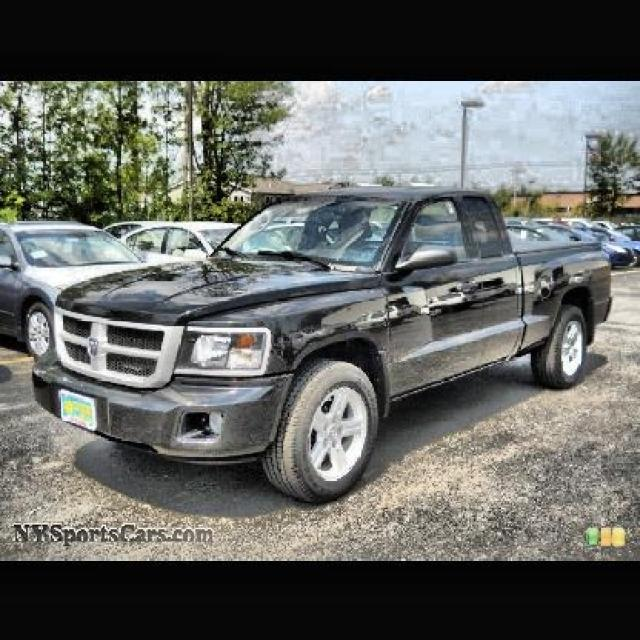black: (36, 189, 608, 500)
